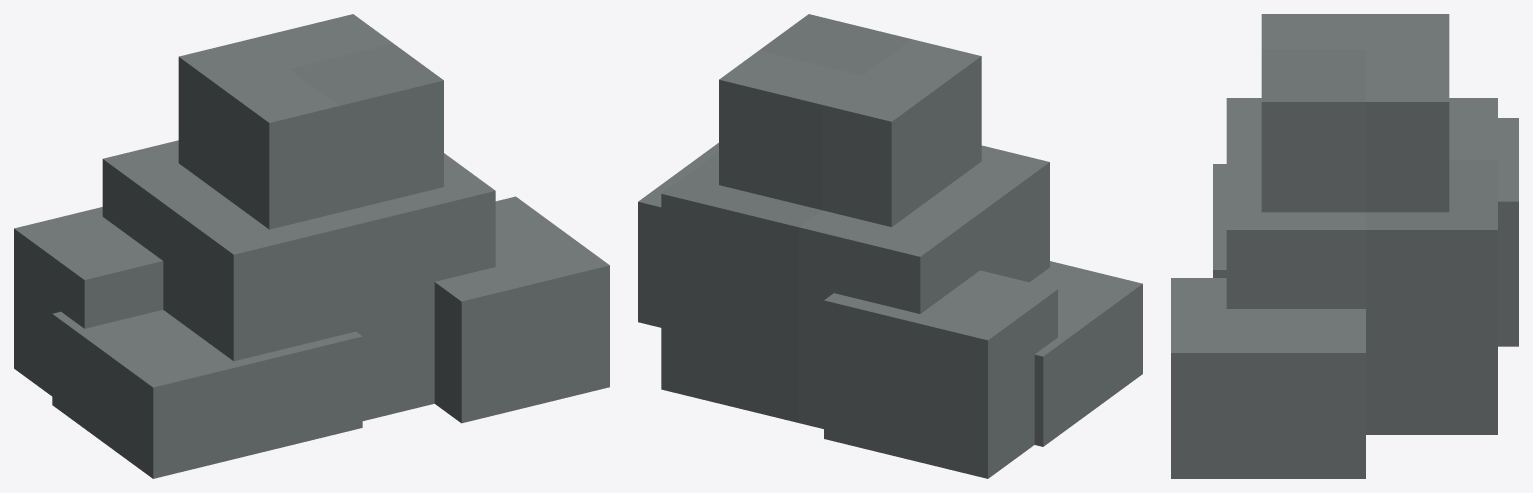
File: SM_VMF_Nature_Rock_Small.fbx
3 views of the same model, side by side, from view 1: azimuth 30°, elevation 25°; view 2: azimuth 150°, elevation 25°; view 3: azimuth 270°, elevation 25° (orthographic). The views are drawn at different scales.
Visible parts, largest first — view 1: SM_VMF_Nature_Rock_Small_Stone; view 2: SM_VMF_Nature_Rock_Small_Stone; view 3: SM_VMF_Nature_Rock_Small_Stone.
Boxes of the visible parts, bbox=[...] form: SM_VMF_Nature_Rock_Small_Stone: bbox=[14, 14, 609, 478]; SM_VMF_Nature_Rock_Small_Stone: bbox=[638, 14, 1142, 478]; SM_VMF_Nature_Rock_Small_Stone: bbox=[1171, 14, 1518, 478].
Size of the model in its own units: 48 by 32 by 32.
Materials: 1 (1 with a texture image).
